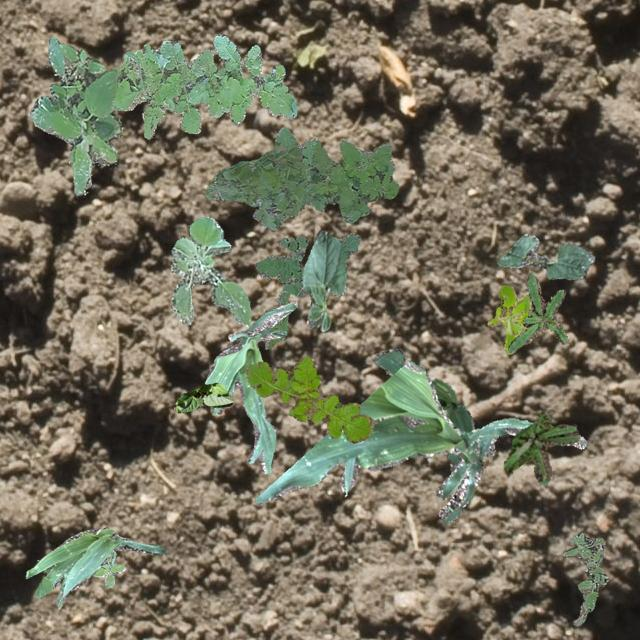crop: (254, 359, 586, 518), (374, 347, 474, 522), (204, 300, 296, 473), (24, 526, 164, 608), (300, 228, 346, 330), (496, 232, 594, 278), (172, 382, 232, 412)
weed: (205, 126, 398, 230), (110, 34, 296, 138), (28, 36, 122, 195), (254, 232, 358, 348), (245, 354, 372, 442), (170, 216, 250, 326), (502, 412, 578, 484), (508, 272, 568, 352), (562, 532, 608, 626), (486, 284, 530, 352), (92, 550, 124, 586)
